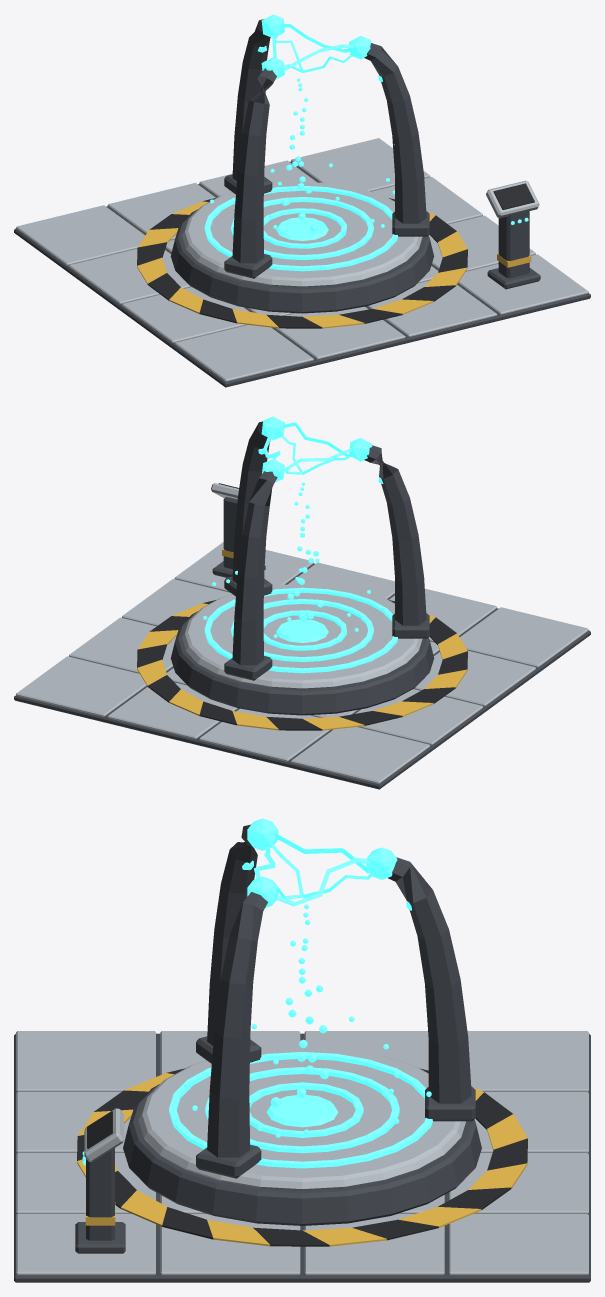
Rendered from sci-fi-teleporter-pad.glb.
3 views of the same model, one above another, from view 1: azimuth 30°, elevation 25°; view 2: azimuth 150°, elevation 25°; view 3: azimuth 270°, elevation 25° (orthographic). The views are drawn at different scales.
Parts seen in each view (by area): view 1: Pad_Top, Pad_Base, Pylon_2, Pylon_3, Floor_Tile_00, Floor_Tile_03, Floor_Base, Floor_Tile_30, Floor_Tile_33, Floor_Tile_10, Floor_Tile_01, Floor_Tile_20 (+26 smaller); view 2: Pad_Top, Pad_Base, Pylon_1, Floor_Tile_03, Floor_Tile_33, Pylon_2, Floor_Tile_00, Floor_Base, Floor_Tile_13, Floor_Tile_02, Floor_Tile_23, Floor_Tile_01 (+23 smaller); view 3: Pad_Top, Pad_Base, Pylon_3, Pylon_1, Floor_Tile_33, Floor_Tile_00, Floor_Tile_03, Floor_Tile_30, Floor_Base, Floor_Tile_31, Floor_Tile_32, Floor_Tile_23 (+31 smaller).
Part boxes in pixels (bbox=[...]): Pad_Top: bbox=[182, 181, 422, 287]; Pad_Base: bbox=[170, 209, 434, 313]; Pylon_2: bbox=[232, 68, 276, 263]; Pylon_3: bbox=[364, 43, 426, 223]; Floor_Tile_00: bbox=[174, 325, 313, 381]; Floor_Tile_03: bbox=[16, 205, 145, 265]; Floor_Base: bbox=[14, 161, 590, 387]; Floor_Tile_30: bbox=[458, 254, 588, 314]; Floor_Tile_33: bbox=[291, 138, 430, 191]; Floor_Tile_10: bbox=[274, 306, 405, 359]; Floor_Tile_01: bbox=[122, 287, 249, 343]; Floor_Tile_20: bbox=[367, 280, 497, 337]; Pad_Top: bbox=[182, 583, 422, 689]; Pad_Base: bbox=[170, 611, 434, 715]; Pylon_1: bbox=[232, 471, 277, 665]; Floor_Tile_03: bbox=[291, 727, 430, 783]; Floor_Tile_33: bbox=[16, 656, 146, 716]; Pylon_2: bbox=[364, 445, 426, 625]; Floor_Tile_00: bbox=[460, 607, 588, 667]; Floor_Base: bbox=[14, 563, 590, 789]; Floor_Tile_13: bbox=[199, 708, 330, 761]; Floor_Tile_02: bbox=[355, 689, 482, 745]; Floor_Tile_23: bbox=[107, 682, 237, 739]; Floor_Tile_01: bbox=[413, 651, 535, 706]; Pad_Top: bbox=[138, 1046, 465, 1190]; Pad_Base: bbox=[123, 1084, 481, 1225]; Pylon_3: bbox=[207, 892, 267, 1157]; Pylon_1: bbox=[388, 857, 471, 1103]; Floor_Tile_33: bbox=[449, 1214, 588, 1275]; Floor_Tile_00: bbox=[16, 1031, 155, 1091]; Floor_Tile_03: bbox=[467, 1031, 588, 1091]; Floor_Tile_30: bbox=[16, 1214, 155, 1275]; Floor_Base: bbox=[14, 1033, 590, 1282]; Floor_Tile_31: bbox=[160, 1214, 300, 1275]; Floor_Tile_32: bbox=[304, 1214, 444, 1275]; Floor_Tile_23: bbox=[449, 1153, 588, 1213].
Bounding box in the file's own units: 16 × 9.61 × 16.
